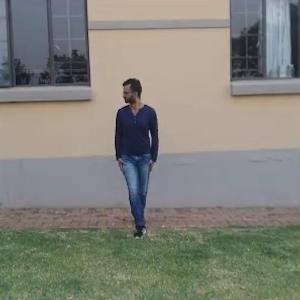follow: (113, 75, 161, 238)
